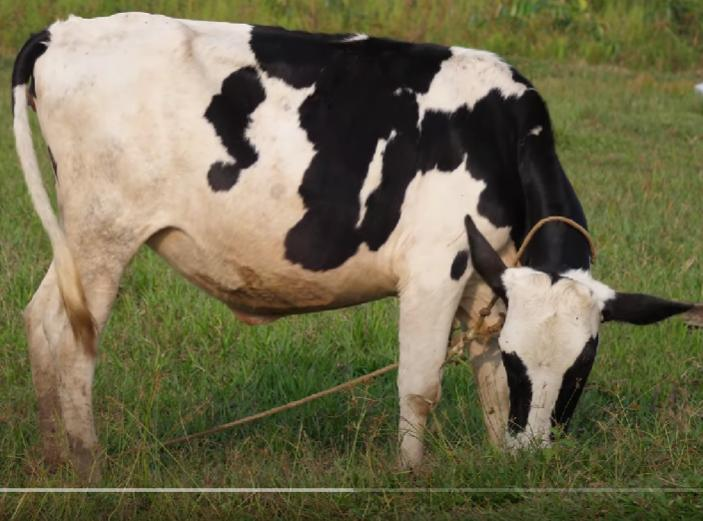cow: (10, 10, 703, 472)
